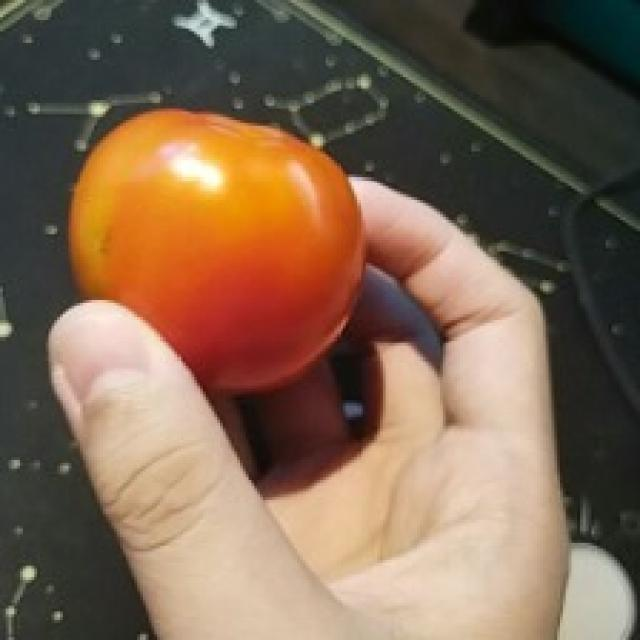Fresh Tomato: (52, 90, 380, 403)
